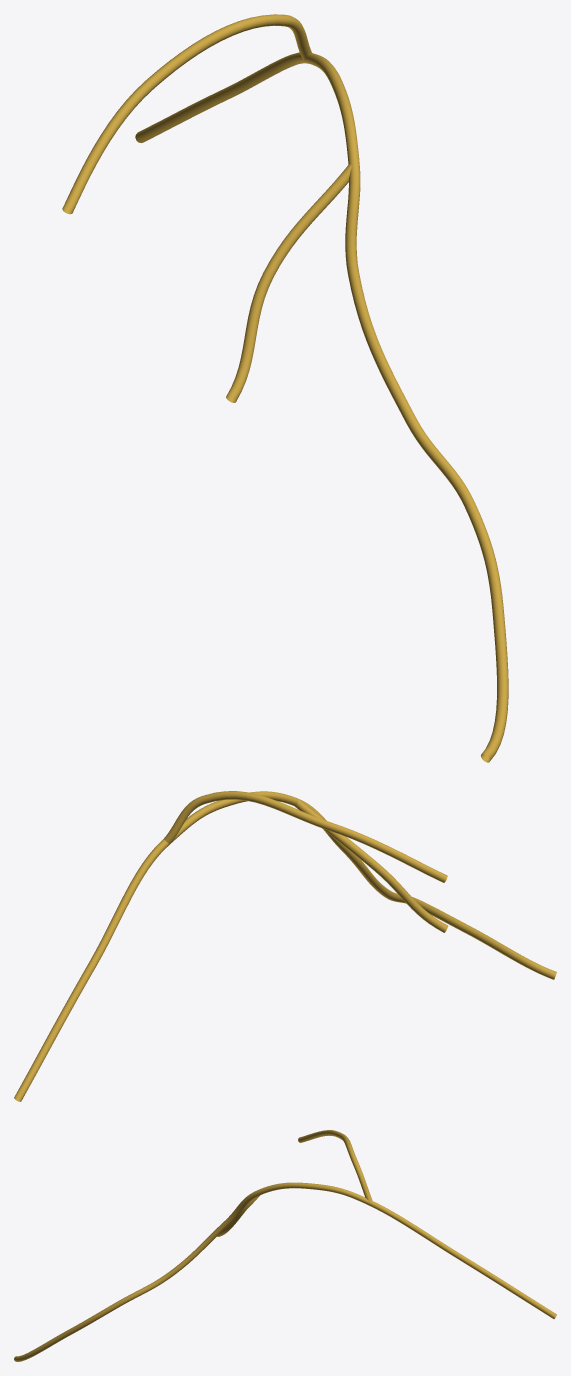
3 views of the same model, one above another, from view 1: azimuth 30°, elevation 25°; view 2: azimuth 150°, elevation 25°; view 3: azimuth 270°, elevation 25° (orthographic). The views are drawn at different scales.
Visible parts, largest first — view 1: 左侧股后皮神经后根; view 2: 左侧股后皮神经后根; view 3: 左侧股后皮神经后根.
Boxes of the visible parts, <box> form: 左侧股后皮神经后根: <box>62,14,508,762</box>; 左侧股后皮神经后根: <box>14,791,556,1101</box>; 左侧股后皮神经后根: <box>14,1130,556,1361</box>.
Size of the model in its own units: 0.0492 by 0.0667 by 0.1377.
